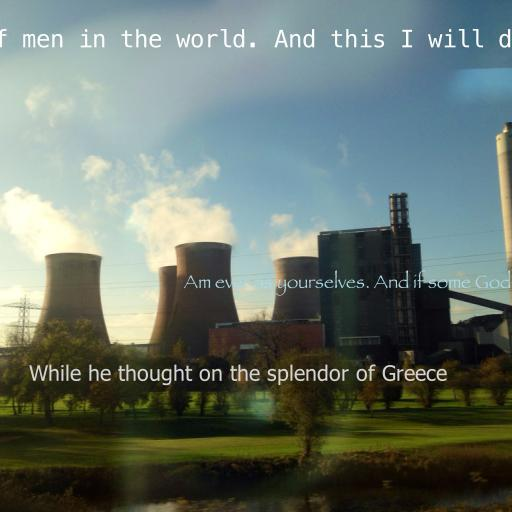Menlo: (0, 29, 512, 53)
Papyrus: (183, 270, 511, 296)
Tahoma: (29, 364, 447, 386)
